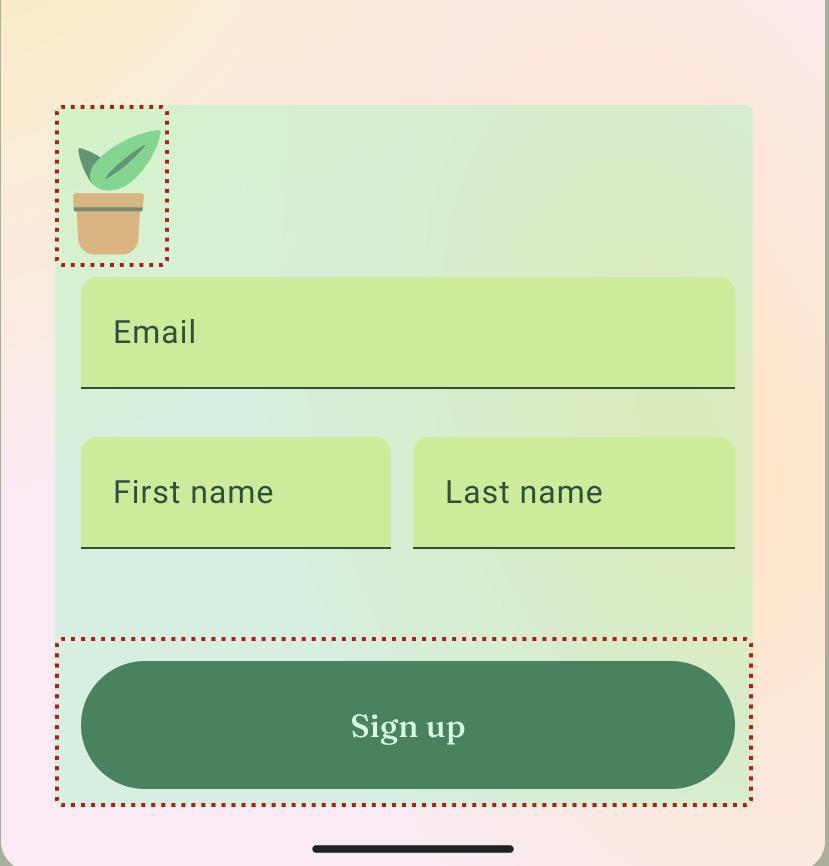button: (79, 658, 737, 793)
input: (82, 276, 739, 391), (416, 435, 737, 549), (80, 436, 392, 552)
